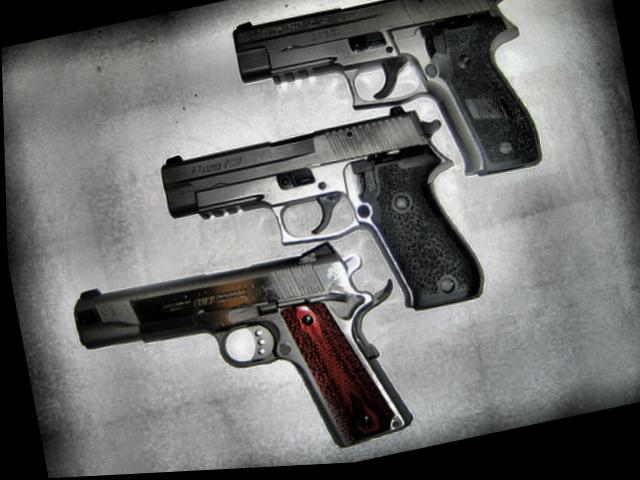pistol: (156, 99, 485, 362), (66, 230, 414, 478), (225, 0, 544, 225)
